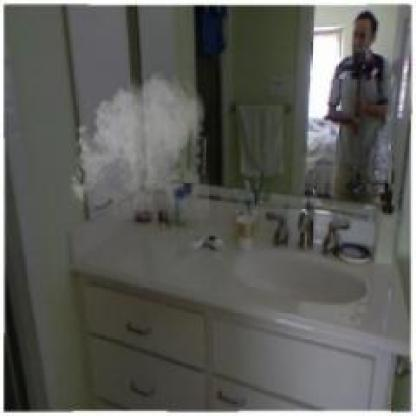Smoke: (66, 67, 210, 219)
